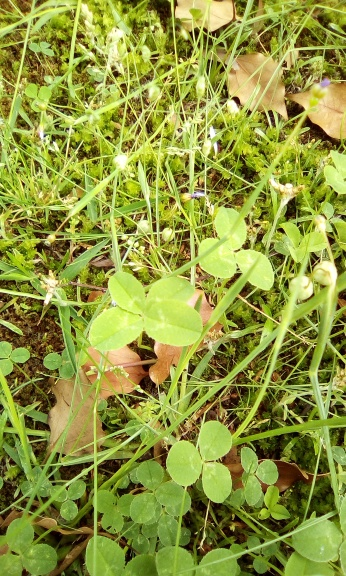4leaf: (88, 271, 204, 351)
